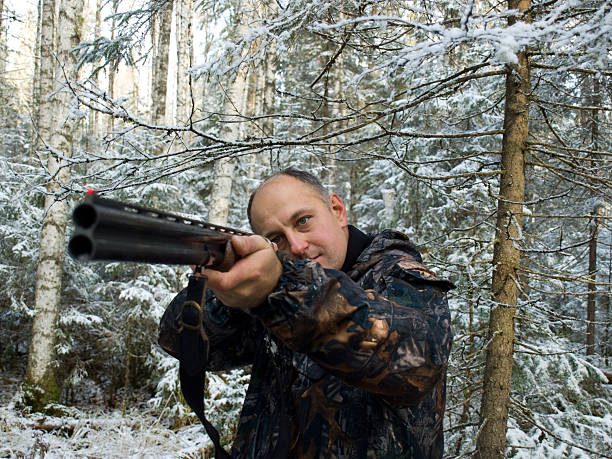gun: (68, 188, 252, 267)
